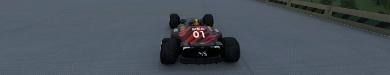Car: (159, 12, 240, 65)
obstacles-Borders: (256, 0, 389, 39)
